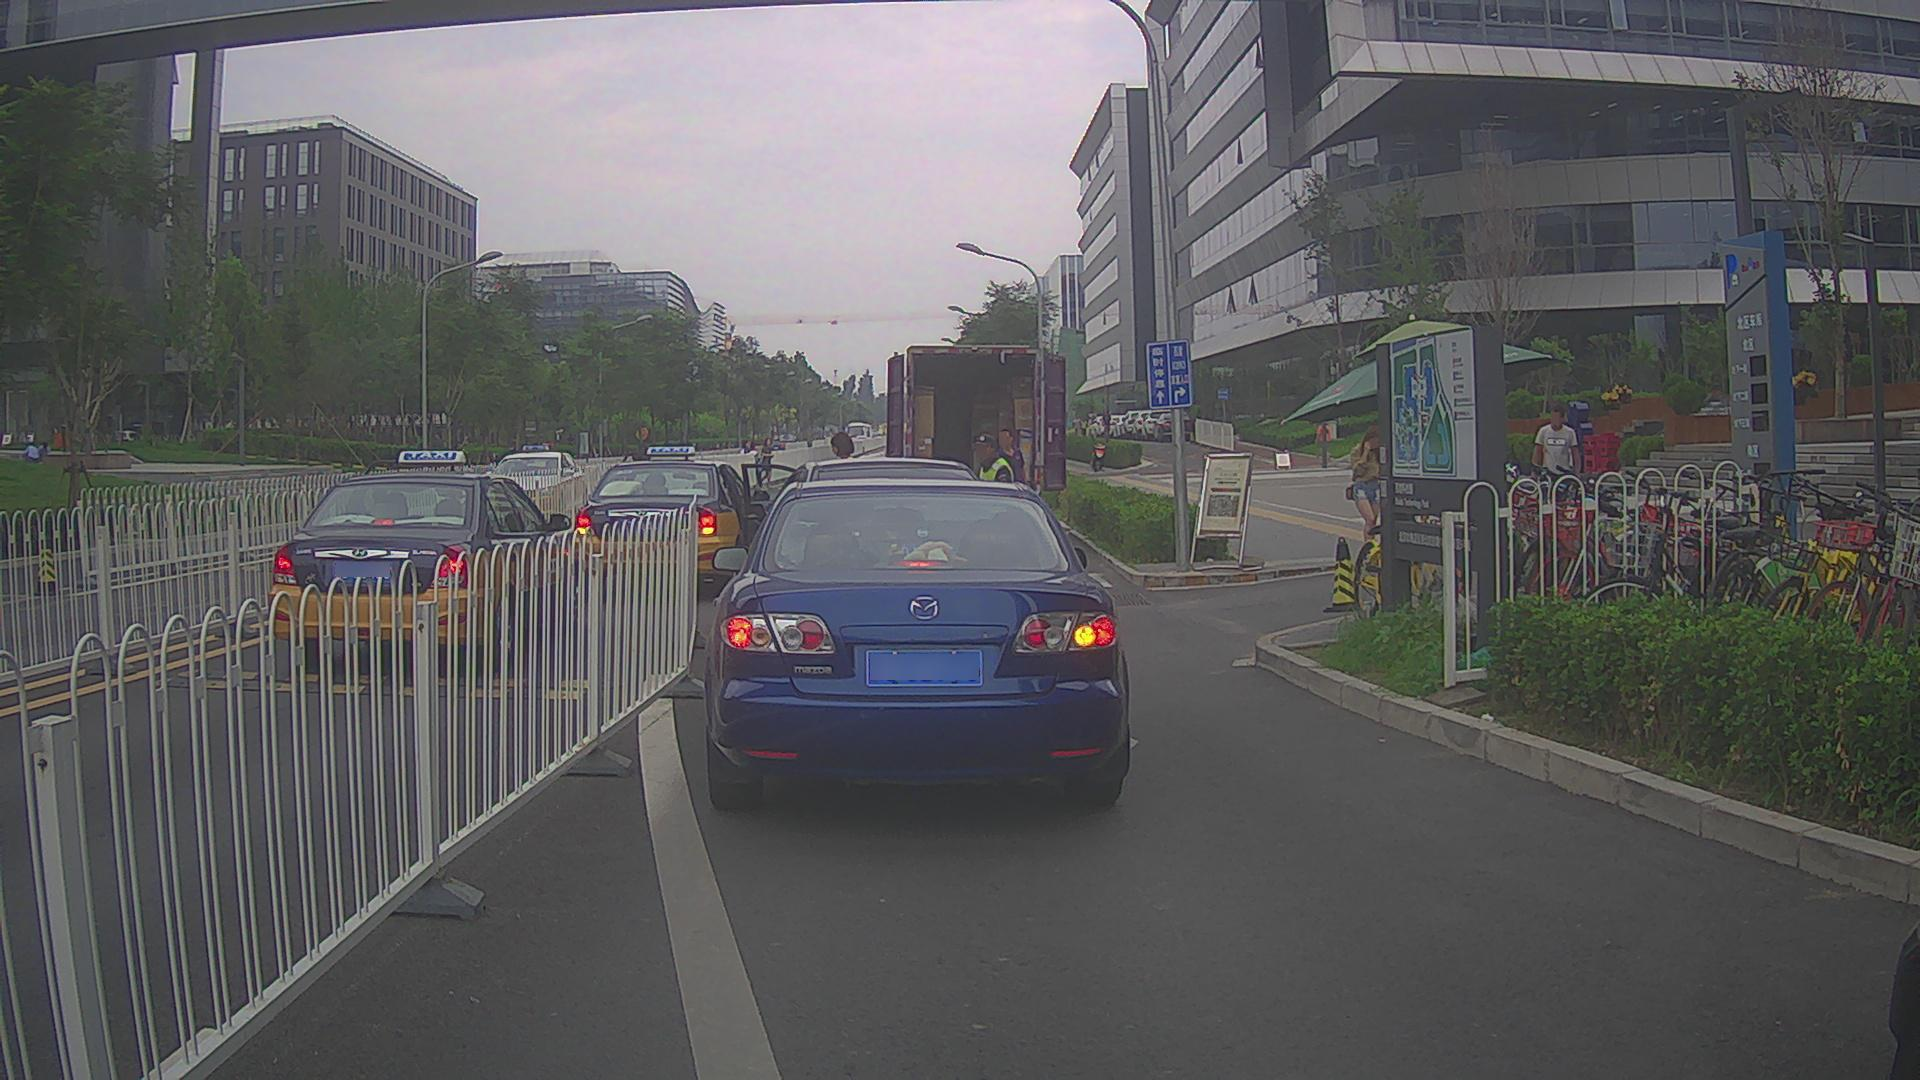bus: (844, 421, 872, 450)
car: (710, 477, 1131, 814), (263, 445, 572, 670), (755, 456, 1013, 657), (572, 445, 816, 595), (470, 442, 588, 518), (1141, 408, 1180, 440), (1152, 411, 1195, 442), (1133, 411, 1163, 441), (1122, 410, 1152, 437)
ignore: (1087, 413, 1126, 437), (770, 433, 798, 451)
pedestrian: (1524, 406, 1585, 530), (974, 431, 1015, 582), (1343, 431, 1387, 558), (827, 430, 860, 539), (995, 426, 1028, 536), (1315, 416, 1329, 462), (747, 440, 761, 486), (760, 436, 773, 486), (740, 439, 752, 486), (21, 442, 41, 465), (1102, 408, 1111, 442), (36, 441, 50, 462), (1072, 416, 1081, 438), (1080, 417, 1088, 439)
truck: (887, 341, 1071, 537)
